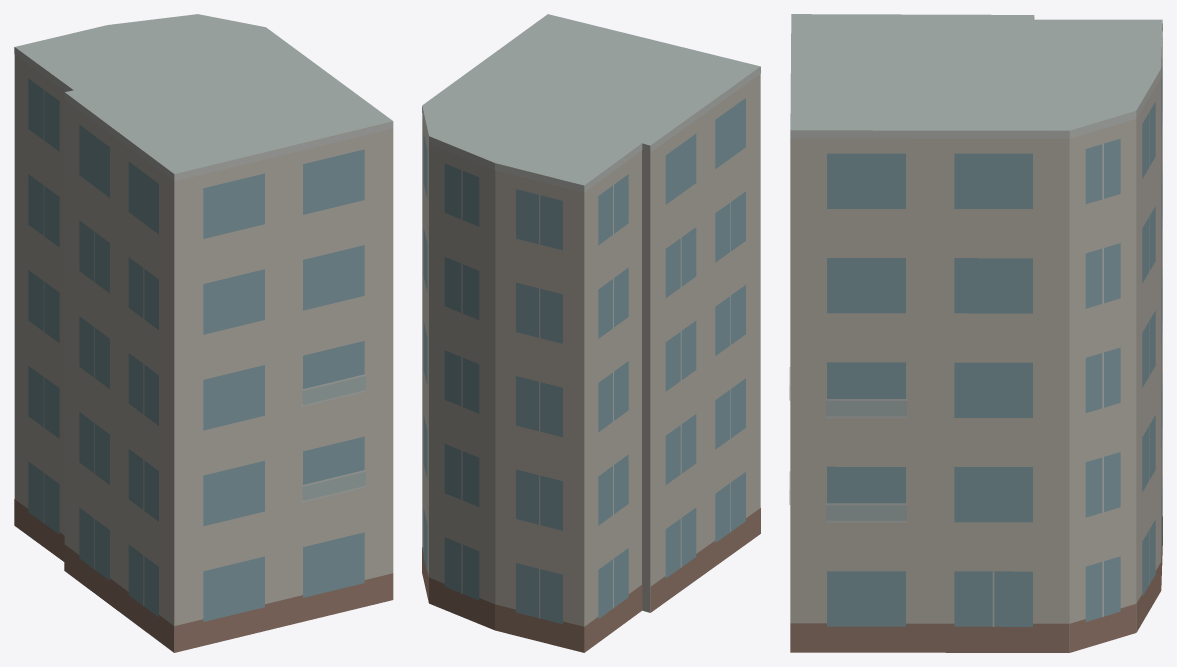
File: survey-upis-32942186.glb
3 renders of one model, left to right at view 1: azimuth 30°, elevation 25°; view 2: azimuth 150°, elevation 25°; view 3: azimuth 270°, elevation 25°, orthographic. The views are drawn at different scales.
Visible parts, largest first — view 1: survey-upis-32942186.tmp; view 2: survey-upis-32942186.tmp; view 3: survey-upis-32942186.tmp.
Part boxes in pixels (bbox=[...]): survey-upis-32942186.tmp: bbox=[14, 14, 393, 652]; survey-upis-32942186.tmp: bbox=[422, 14, 760, 652]; survey-upis-32942186.tmp: bbox=[789, 14, 1162, 652].
Bounding box in the file's own units: 7.67 × 15.95 × 10.35.
